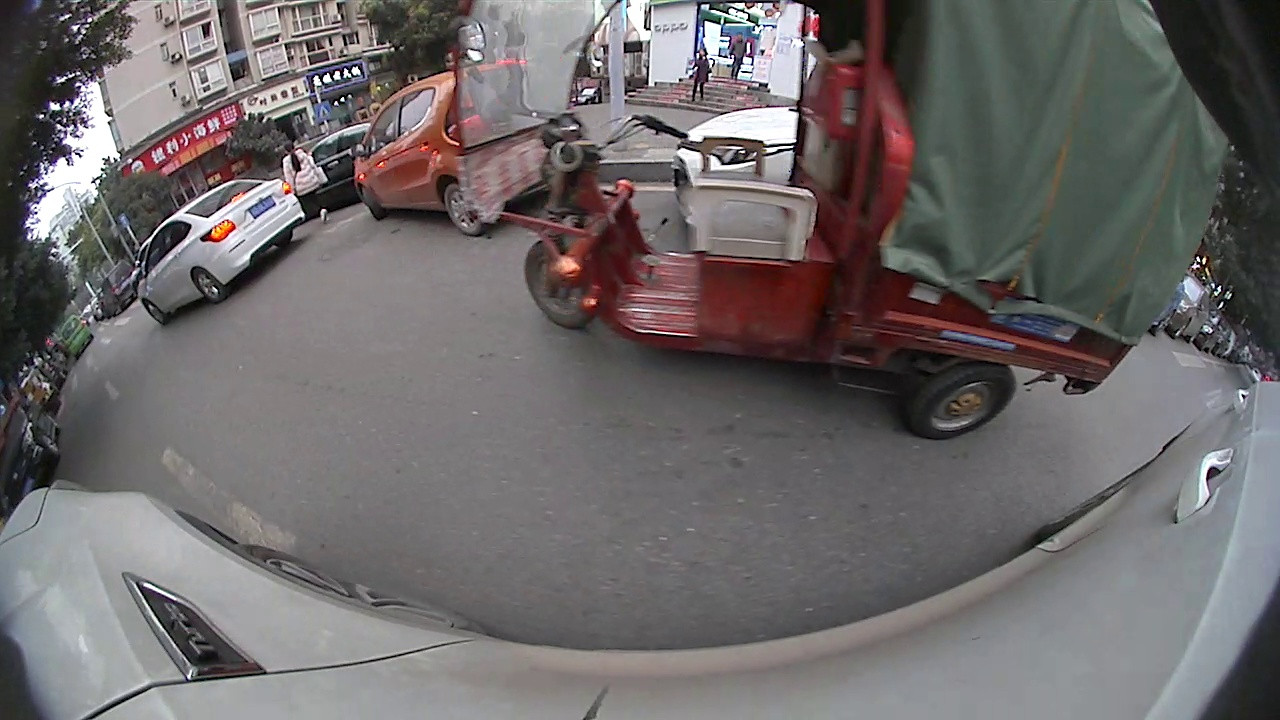car: (349, 68, 550, 240), (133, 174, 308, 326)
front: (520, 235, 604, 330), (141, 299, 169, 323)
person: (274, 136, 335, 226)
rear: (911, 349, 1019, 443), (439, 186, 489, 238), (190, 271, 230, 305)
rider: (444, 1, 1214, 439)
